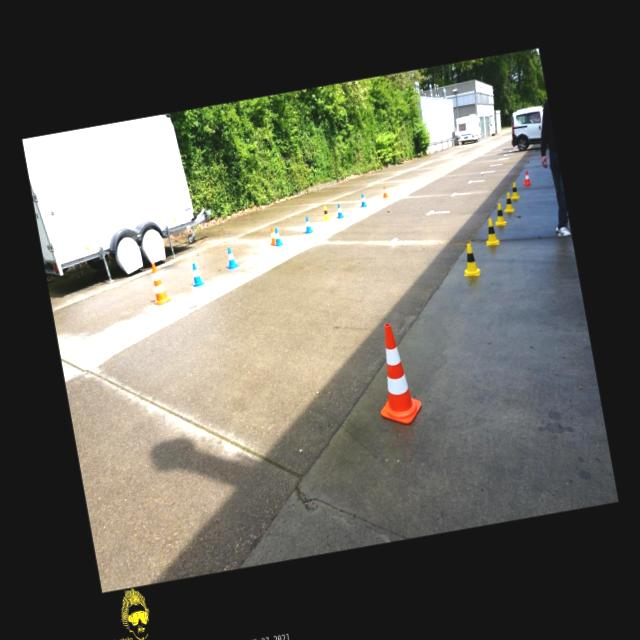blue_cone: (188, 262, 204, 286), (224, 246, 238, 268), (272, 227, 283, 246), (334, 202, 344, 218), (303, 215, 312, 232), (359, 193, 366, 207)
large_orange_cone: (365, 320, 424, 428), (146, 261, 172, 306)
orange_cone: (267, 226, 276, 245), (521, 170, 531, 185), (381, 185, 388, 198)
yellow_cone: (458, 241, 481, 278), (482, 216, 499, 246), (491, 202, 507, 227), (500, 190, 514, 213), (508, 180, 520, 200), (322, 204, 330, 220)
